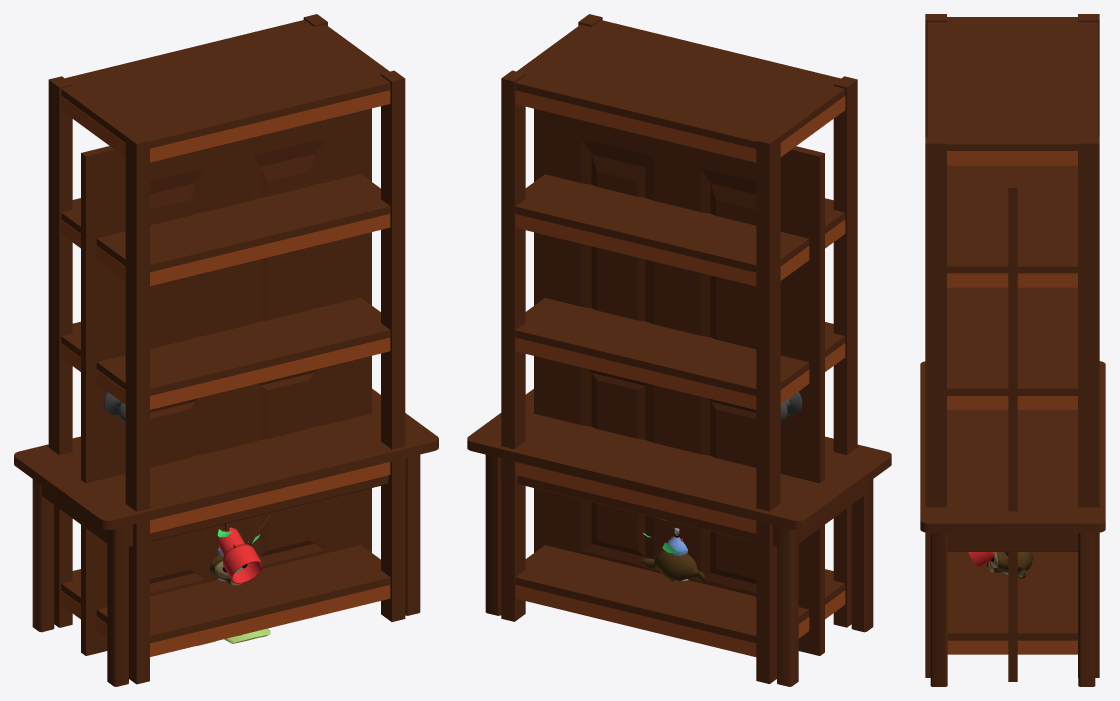
Rendered from items.fbx.
3 views of the same model, side by side, from view 1: azimuth 30°, elevation 25°; view 2: azimuth 150°, elevation 25°; view 3: azimuth 270°, elevation 25° (orthographic).
Parts seen in each view (by area): view 1: industrial_shelving_02, door_04, coffee_table, desk_lamp; view 2: industrial_shelving_02, door_04, coffee_table, Suzanne; view 3: industrial_shelving_02, coffee_table, door_04, Suzanne.
Part boxes in pixels (<box>): industrial_shelving_02: <box>48,14,405,684</box>; door_04: <box>81,108,371,655</box>; coffee_table: <box>14,388,438,686</box>; desk_lamp: <box>218,528,262,583</box>; industrial_shelving_02: <box>501,14,857,683</box>; door_04: <box>534,108,824,655</box>; coffee_table: <box>467,389,891,686</box>; Suzanne: <box>640,549,705,581</box>; industrial_shelving_02: <box>925,14,1099,677</box>; coffee_table: <box>920,361,1105,686</box>; door_04: <box>1008,165,1017,681</box>; Suzanne: <box>987,552,1033,578</box>.
Bounding box in the file's own units: 177 × 272 × 85.31.
